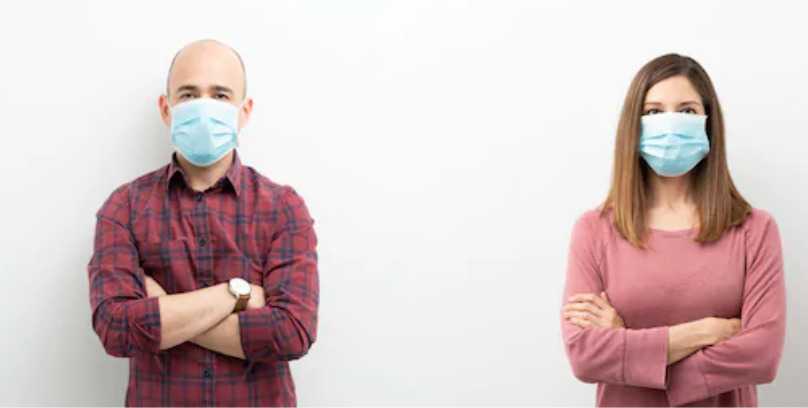Caution: (89, 36, 786, 404)
